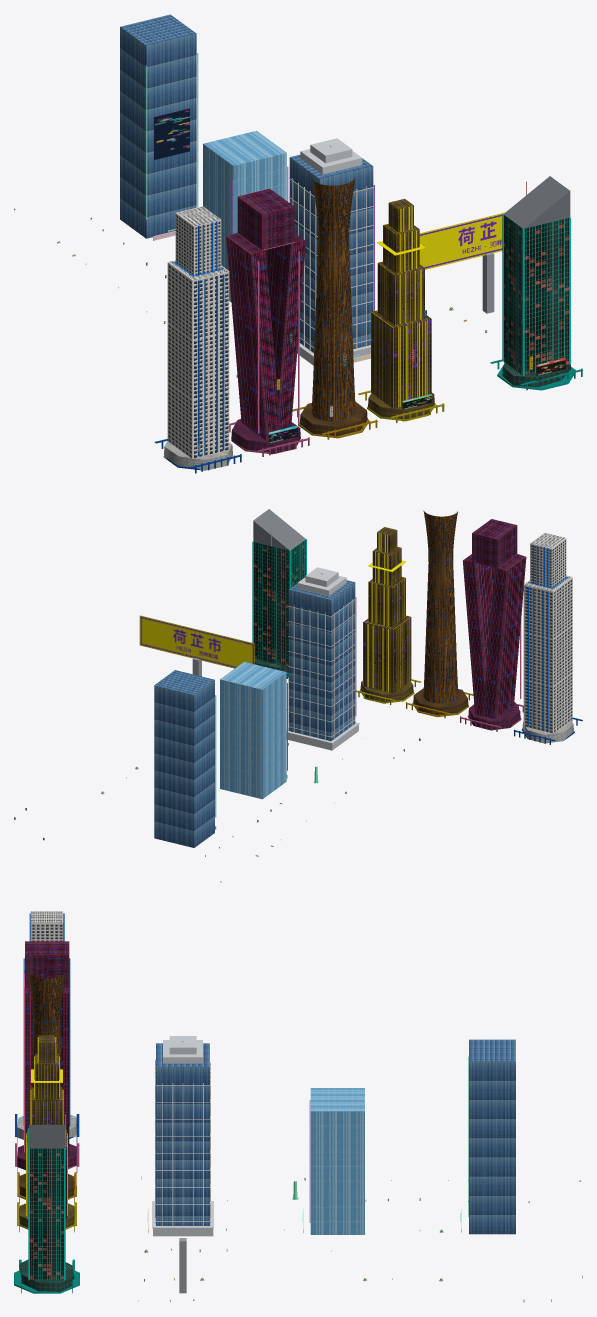
File: tile_1000_-500.glb
The picture shows the model from 3 angles, top to bottom: view 1: azimuth 30°, elevation 25°; view 2: azimuth 150°, elevation 25°; view 3: azimuth 270°, elevation 25°; orthographic projection. The views are drawn at different scales.
Parts seen in each view (by area): view 1: tile; view 2: tile; view 3: tile.
Part boxes in pixels (box(x1,y1,x2,y2)): tile: box(14, 14, 582, 473); tile: box(14, 509, 582, 882); tile: box(14, 911, 582, 1302).
Bounding box in the file's own units: 385 × 195 × 456.
Materials: 59 (19 with a texture image).
